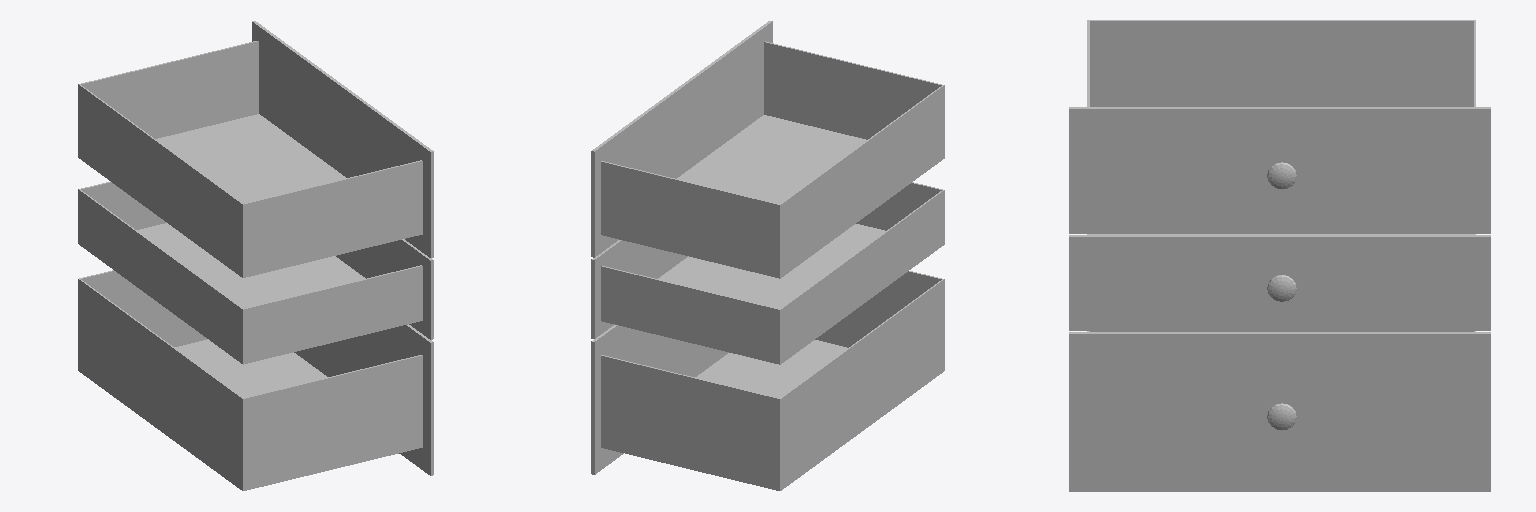
robot.urdf — my_urdf:
<?xml version='1.0' encoding='utf-8'?>
<robot name="my_urdf"><link name="base_link"><visual><origin xyz="0 0 0" rpy="0.0 0.0 0.0" /><material name="white"><color rgba="0.8 0.8 0.8 1" /></material><geometry><mesh filename="../meshes/cabinet.obj" scale="1 1 1" /></geometry></visual><collision><origin xyz="0 0 0" rpy="0.0 0.0 0.0" /><geometry><mesh filename="../meshes/cabinet.obj" scale="1 1 1" /></geometry></collision><inertial><mass value="1" /><inertia ixx="1e-4" ixy="0" ixz="0" iyy="1e-4" iyz="0" izz="1e-4" /></inertial></link><link name="drawer0"><visual><origin xyz="0 0 0" rpy="0 0 0" /><material name="white"><color rgba="0.8 0.8 0.8 1" /></material><geometry><mesh filename="../meshes/parts/drawer.obj" scale="1 3.98 1.3133333333333332" /></geometry></visual><collision><origin xyz="0 0 0" rpy="0 0 0" /><geometry><mesh filename="../meshes/parts/drawer.obj" scale="1 3.98 1.3133333333333332" /></geometry></collision><inertial><mass value="0.2" /><inertia ixx="1e-4" ixy="0" ixz="0" iyy="1e-4" iyz="0" izz="1e-4" /></inertial></link><joint name="drawer0_to_base_link" type="prismatic"><axis xyz="1 0 0" /><limit effort="5" lower="0" upper="0.4" velocity="2.283" /><origin xyz="0 0.0 0.6666666666666666" rpy="0.0 0.0 0.0" /><parent link="base_link" /><child link="drawer0" /></joint><link name="drawer1"><visual><origin xyz="0 0 0" rpy="0 0 0" /><material name="white"><color rgba="0.8 0.8 0.8 1" /></material><geometry><mesh filename="../meshes/parts/drawer.obj" scale="1 3.98 0.98" /></geometry></visual><collision><origin xyz="0 0 0" rpy="0 0 0" /><geometry><mesh filename="../meshes/parts/drawer.obj" scale="1 3.98 0.98" /></geometry></collision><inertial><mass value="0.2" /><inertia ixx="1e-4" ixy="0" ixz="0" iyy="1e-4" iyz="0" izz="1e-4" /></inertial></link><joint name="drawer1_to_base_link" type="prismatic"><axis xyz="1 0 0" /><limit effort="5" lower="0" upper="0.4" velocity="2.283" /><origin xyz="0 0.0 0.4166666666666667" rpy="0.0 0.0 0.0" /><parent link="base_link" /><child link="drawer1" /></joint><link name="drawer2"><visual><origin xyz="0 0 0" rpy="0 0 0" /><material name="white"><color rgba="0.8 0.8 0.8 1" /></material><geometry><mesh filename="../meshes/parts/drawer.obj" scale="1 3.98 1.6466666666666667" /></geometry></visual><collision><origin xyz="0 0 0" rpy="0 0 0" /><geometry><mesh filename="../meshes/parts/drawer.obj" scale="1 3.98 1.6466666666666667" /></geometry></collision><inertial><mass value="0.2" /><inertia ixx="1e-4" ixy="0" ixz="0" iyy="1e-4" iyz="0" izz="1e-4" /></inertial></link><joint name="drawer2_to_base_link" type="prismatic"><axis xyz="1 0 0" /><limit effort="5" lower="0" upper="0.4" velocity="2.283" /><origin xyz="0 0.0 0.0" rpy="0.0 0.0 0.0" /><parent link="base_link" /><child link="drawer2" /></joint><link name="knob3"><visual><origin xyz="0 0 0" rpy="0 0 0" /><material name="white"><color rgba="0.8 0.8 0.8 1" /></material><geometry><mesh filename="../meshes/parts/knob.obj" scale="1 1 1" /></geometry></visual><collision><origin xyz="0 0 0" rpy="0 0 0" /><geometry><mesh filename="../meshes/parts/knob.obj" scale="1 1 1" /></geometry></collision><inertial><mass value="0.2" /><inertia ixx="1e-4" ixy="0" ixz="0" iyy="1e-4" iyz="0" izz="1e-4" /></inertial></link><joint name="knob3_to_drawer0" type="fixed"><axis xyz="0 0 1" /><limit effort="5" lower="0" upper="0.4" velocity="2.283" /><origin xyz="0 0.5 0.16666666666666666" rpy="1.5707963267948963 0.0 0.0" /><parent link="drawer0" /><child link="knob3" /></joint><link name="knob4"><visual><origin xyz="0 0 0" rpy="0 0 0" /><material name="white"><color rgba="0.8 0.8 0.8 1" /></material><geometry><mesh filename="../meshes/parts/knob.obj" scale="1 1 1" /></geometry></visual><collision><origin xyz="0 0 0" rpy="0 0 0" /><geometry><mesh filename="../meshes/parts/knob.obj" scale="1 1 1" /></geometry></collision><inertial><mass value="0.2" /><inertia ixx="1e-4" ixy="0" ixz="0" iyy="1e-4" iyz="0" izz="1e-4" /></inertial></link><joint name="knob4_to_drawer1" type="fixed"><axis xyz="0 0 1" /><limit effort="5" lower="0" upper="0.4" velocity="2.283" /><origin xyz="0 0.5 0.125" rpy="1.5707963267948963 0.0 0.0" /><parent link="drawer1" /><child link="knob4" /></joint><link name="knob5"><visual><origin xyz="0 0 0" rpy="0 0 0" /><material name="white"><color rgba="0.8 0.8 0.8 1" /></material><geometry><mesh filename="../meshes/parts/knob.obj" scale="1 1 1" /></geometry></visual><collision><origin xyz="0 0 0" rpy="0 0 0" /><geometry><mesh filename="../meshes/parts/knob.obj" scale="1 1 1" /></geometry></collision><inertial><mass value="0.2" /><inertia ixx="1e-4" ixy="0" ixz="0" iyy="1e-4" iyz="0" izz="1e-4" /></inertial></link><joint name="knob5_to_drawer2" type="fixed"><axis xyz="0 0 1" /><limit effort="5" lower="0" upper="0.4" velocity="2.283" /><origin xyz="0 0.5 0.20833333333333334" rpy="1.5707963267948963 0.0 0.0" /><parent link="drawer2" /><child link="knob5" /></joint></robot>

--- Render facts (derived) ---
Views: 3 orthographic renders of the robot side by side, from view 1: azimuth 30°, elevation 25°; view 2: azimuth 150°, elevation 25°; view 3: azimuth 270°, elevation 25°.
Robot: my_urdf — 7 links, 6 joints (3 prismatic, 3 fixed); root link base_link; default pose: every joint at zero.
Links seen in each view (by area): view 1: drawer0, drawer2, drawer1; view 2: drawer0, drawer2, drawer1; view 3: drawer0, drawer2, drawer1, knob3, knob5, knob4.
Link boxes in pixels (left/top/right/bottom): drawer0: left=78, top=21, right=433, bottom=277; drawer2: left=78, top=270, right=433, bottom=490; drawer1: left=78, top=181, right=433, bottom=364; drawer0: left=591, top=21, right=944, bottom=278; drawer2: left=591, top=271, right=944, bottom=490; drawer1: left=591, top=182, right=944, bottom=364; drawer0: left=1069, top=20, right=1490, bottom=233; drawer2: left=1069, top=331, right=1490, bottom=491; drawer1: left=1069, top=234, right=1490, bottom=330; knob3: left=1267, top=162, right=1296, bottom=189; knob5: left=1267, top=403, right=1296, bottom=430; knob4: left=1267, top=275, right=1296, bottom=301.
Bounding box of the posed robot: 0.6304 × 0.991 × 0.9923 m (x, y, z).
Meshes: 3 distinct files referenced, 6 mesh visuals loaded (2 OBJ); not drawn: 1 (reference not matched to a file when rendering).